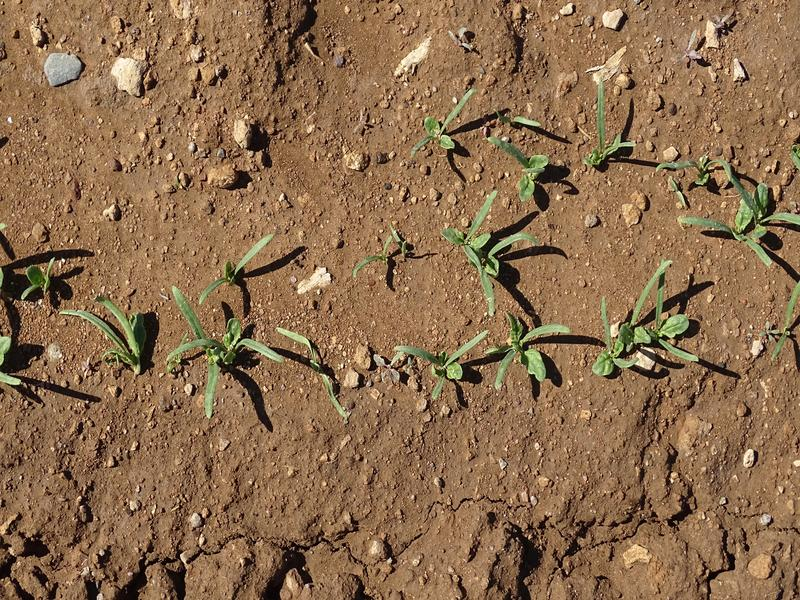Espinaca: (655, 147, 800, 271), (173, 237, 288, 391), (588, 267, 724, 372), (443, 210, 541, 310), (1, 256, 56, 385), (75, 289, 152, 371), (398, 332, 489, 401), (498, 315, 570, 383), (406, 85, 468, 161), (493, 136, 555, 201), (357, 221, 417, 284), (591, 73, 631, 166)
